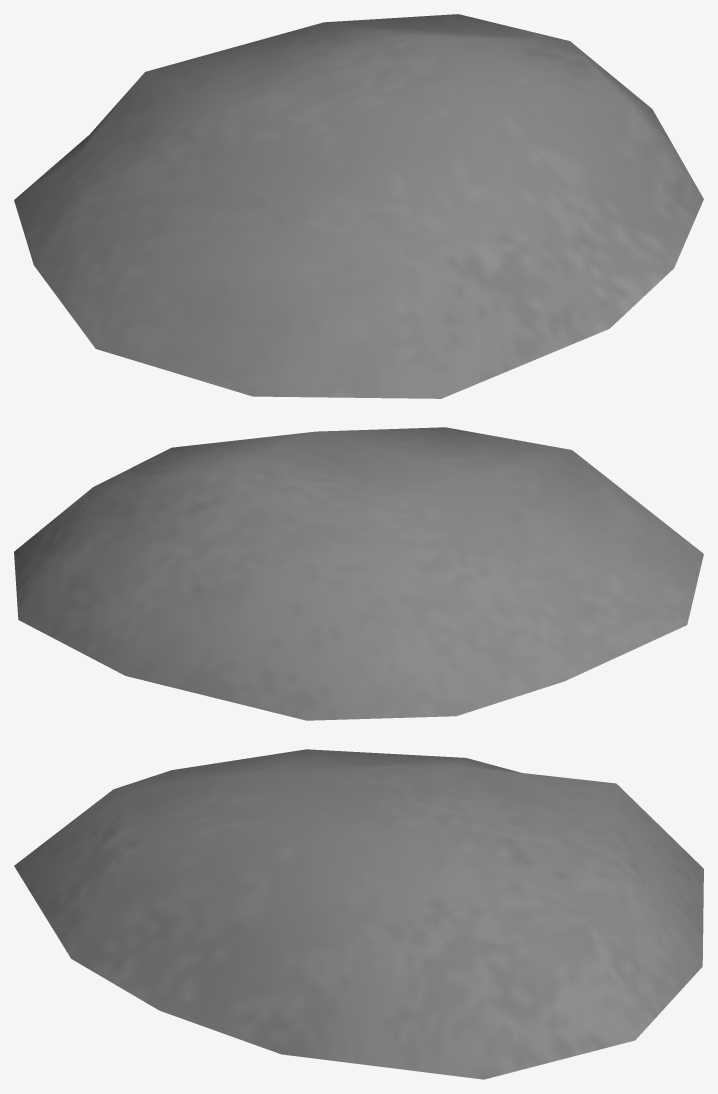
File: Stepping_Stone_3.fbx
The picture shows the model from 3 angles, top to bottom: view 1: azimuth 30°, elevation 25°; view 2: azimuth 150°, elevation 25°; view 3: azimuth 270°, elevation 25°; orthographic projection. The views are drawn at different scales.
Parts seen in each view (by area): view 1: Cube.081; view 2: Cube.081; view 3: Cube.081.
Boxes of the visible parts, left/top/right/bottom form: Cube.081: left=14, top=14, right=703, bottom=398; Cube.081: left=14, top=427, right=703, bottom=720; Cube.081: left=14, top=749, right=703, bottom=1079.
Bounding box in the file's own units: 67.02 × 13.84 × 62.73.
